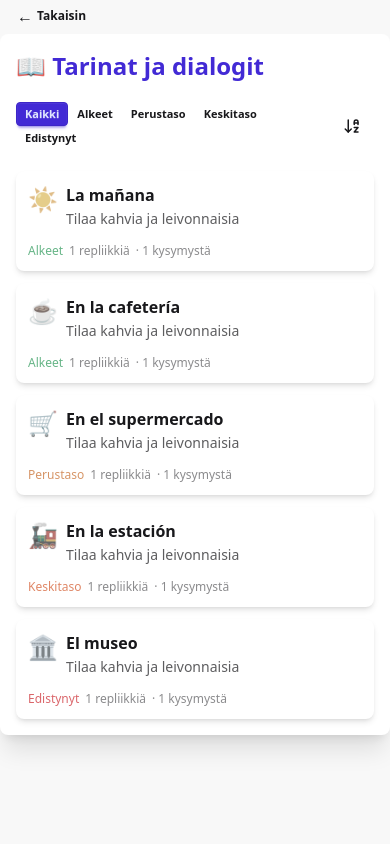
Tarinat Page › filters stories by B1 level
Check: the heading "En la cafetería" is shown, box [66, 296, 180, 318]
# Click on Keskitaso (B1) filter button
Click the 1st text "Keskitaso" at (230, 114), box [204, 106, 257, 122]
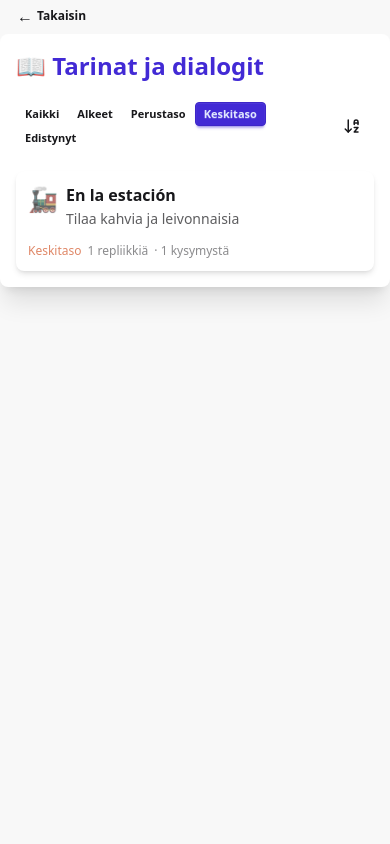
Check: the heading "En la estación" is shown, box [66, 184, 176, 206]
Check: the button "En la cafetería" is gone
Check: the button "En el supermercado" is gone
